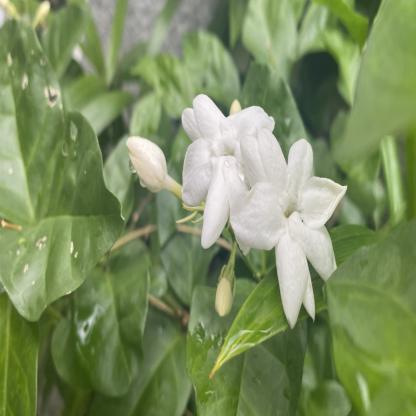Melati: (236, 140, 340, 301), (176, 101, 260, 227)
